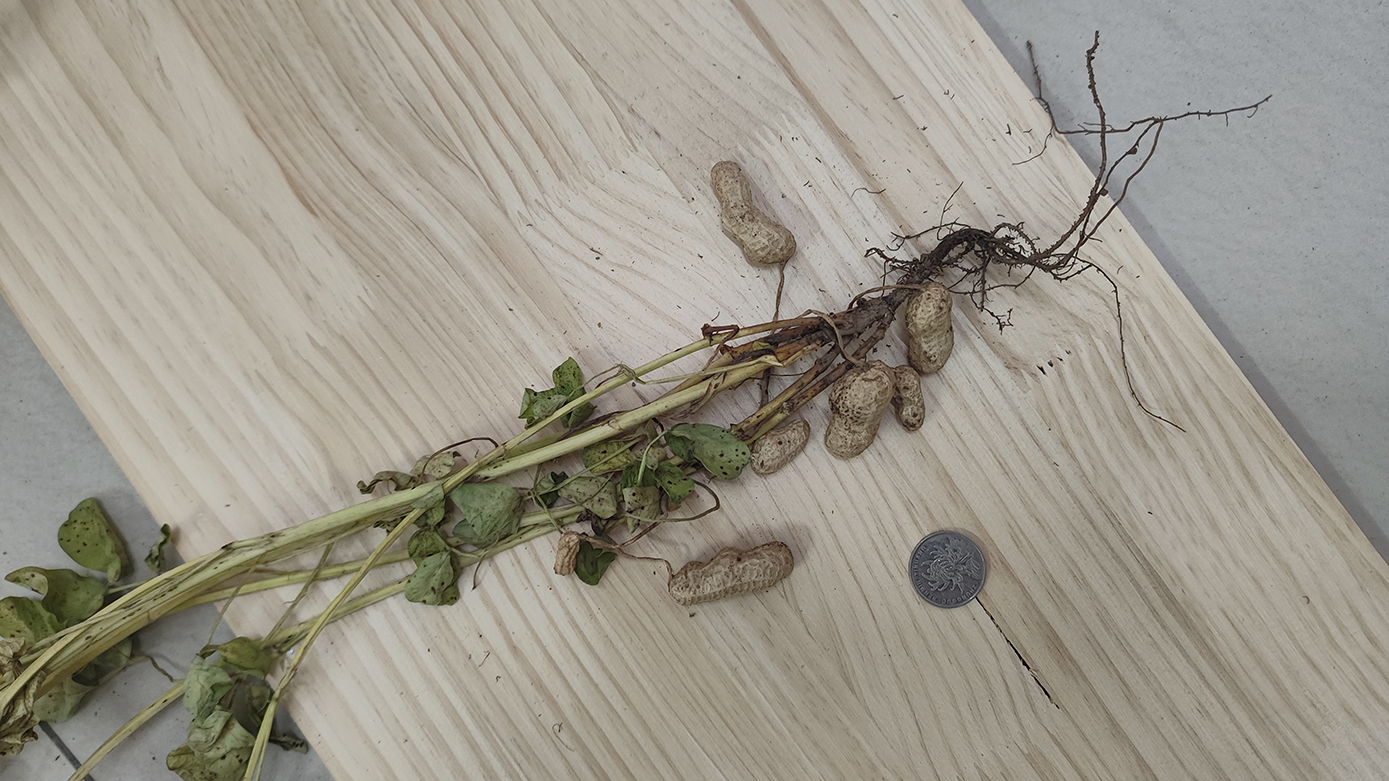h: (709, 159, 799, 267), (669, 541, 796, 605), (824, 360, 894, 459), (905, 282, 955, 374), (751, 416, 810, 474), (893, 366, 925, 434)
l: (552, 533, 581, 577)
